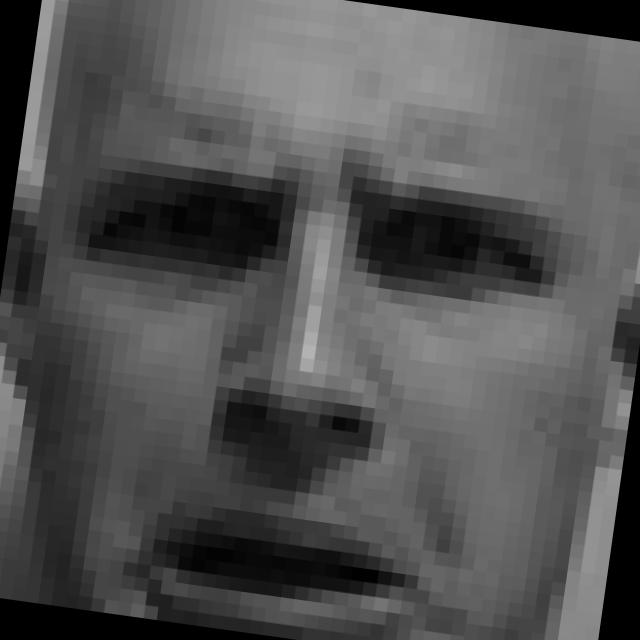disgust: (33, 127, 567, 640)
